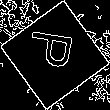P_E: (27, 33, 83, 77)
